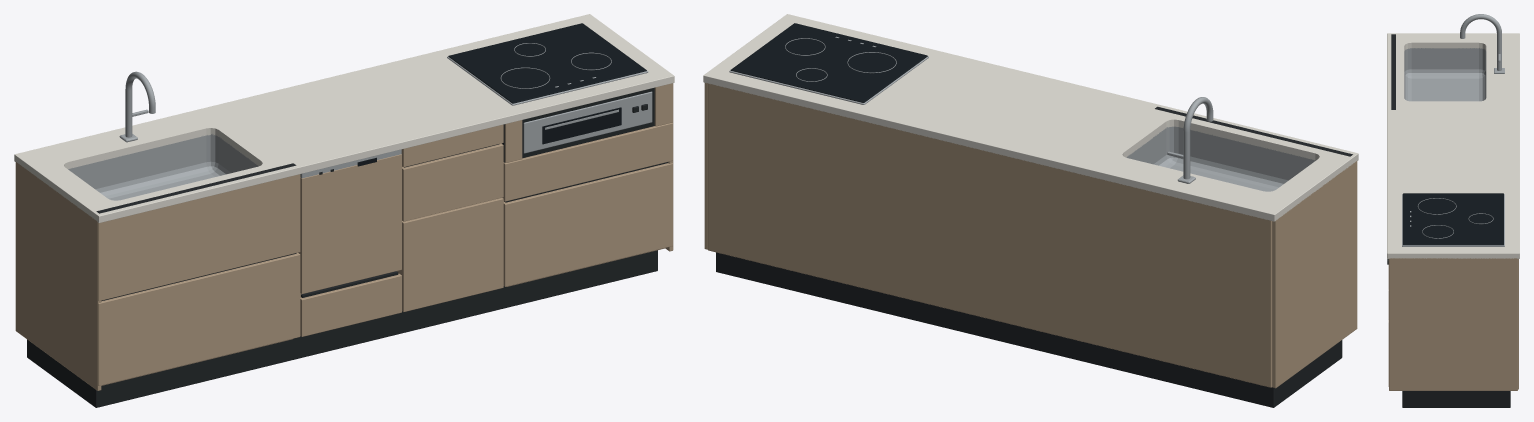
Rendered from original-kitchen-i2550.glb.
3 views of the same model, side by side, from view 1: azimuth 30°, elevation 25°; view 2: azimuth 150°, elevation 25°; view 3: azimuth 270°, elevation 25° (orthographic). The views are drawn at different scales.
Visible parts, largest first — view 1: original-kitchen-i2550; view 2: original-kitchen-i2550; view 3: original-kitchen-i2550.
Part boxes in pixels (x1=…): original-kitchen-i2550: x1=14, y1=14, x2=674, y2=407; original-kitchen-i2550: x1=703, y1=14, x2=1358, y2=407; original-kitchen-i2550: x1=1387, y1=14, x2=1519, y2=407.
Size of the model in its own units: 2.55 by 1.16 by 0.65.
